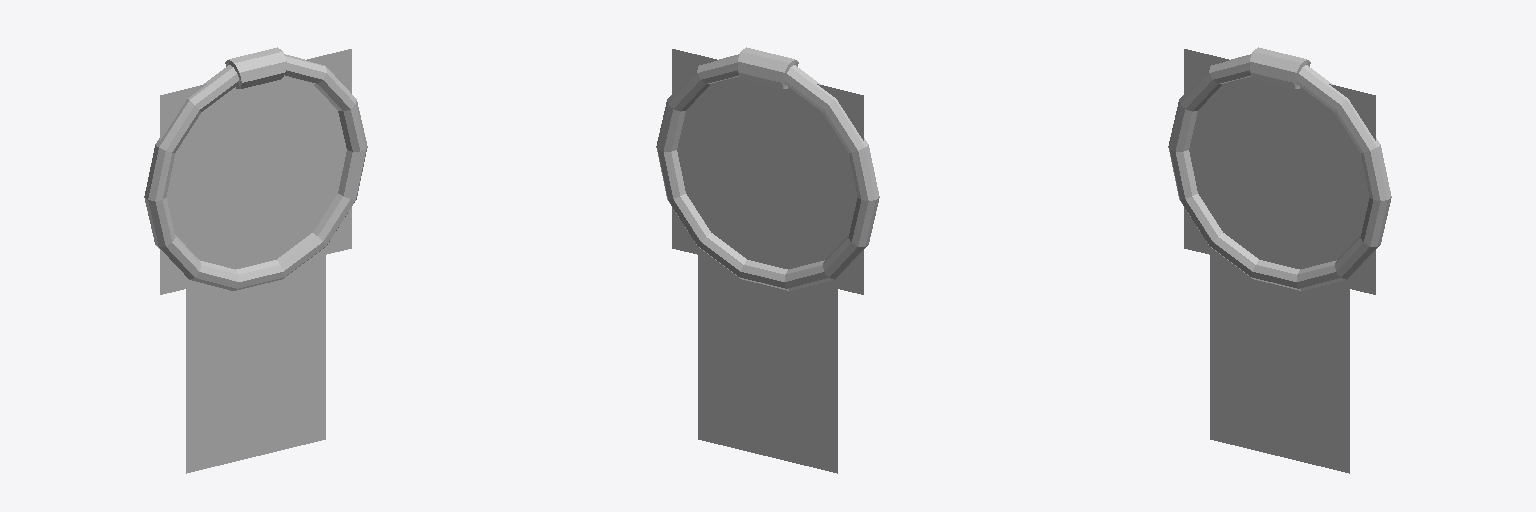
File: dreamcatcher.obj
The picture shows the model from 3 angles: view 1: azimuth 30°, elevation 25°; view 2: azimuth 150°, elevation 25°; view 3: azimuth 330°, elevation 25°; orthographic projection.
Size of the model in its own units: 17.99 by 31.41 by 2.3.